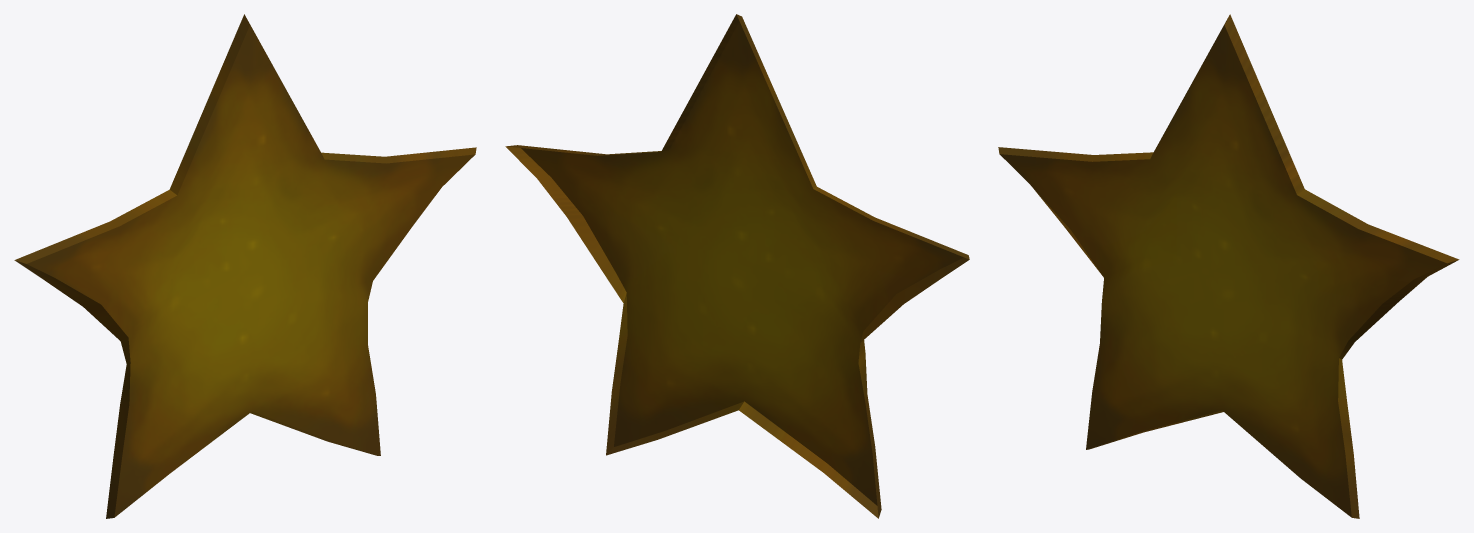
File: CardboardCutout_Star_Yellow_Scaled.fbx
The picture shows the model from 3 angles, left to right: view 1: azimuth 30°, elevation 25°; view 2: azimuth 150°, elevation 25°; view 3: azimuth 330°, elevation 25°; orthographic projection.
Parts seen in each view (by area): view 1: Star6; view 2: Star6; view 3: Star6.
Part boxes in pixels (x1,y1,x2,y2): Star6: (14, 14, 476, 518); Star6: (505, 14, 969, 518); Star6: (998, 14, 1459, 518).
Bounding box in the file's own units: 126 × 123 × 4.12.
